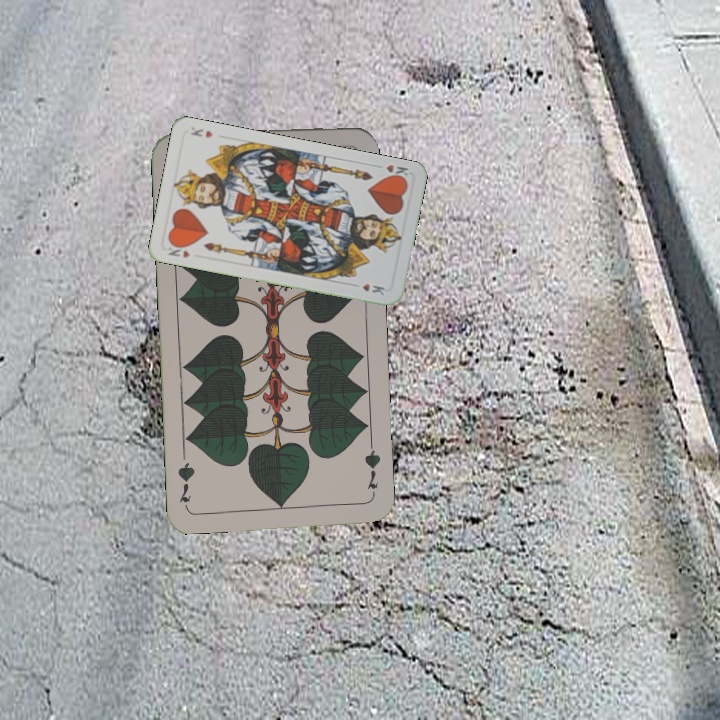G7: (360, 440, 383, 491)
HK: (371, 160, 412, 183), (164, 240, 192, 260)
